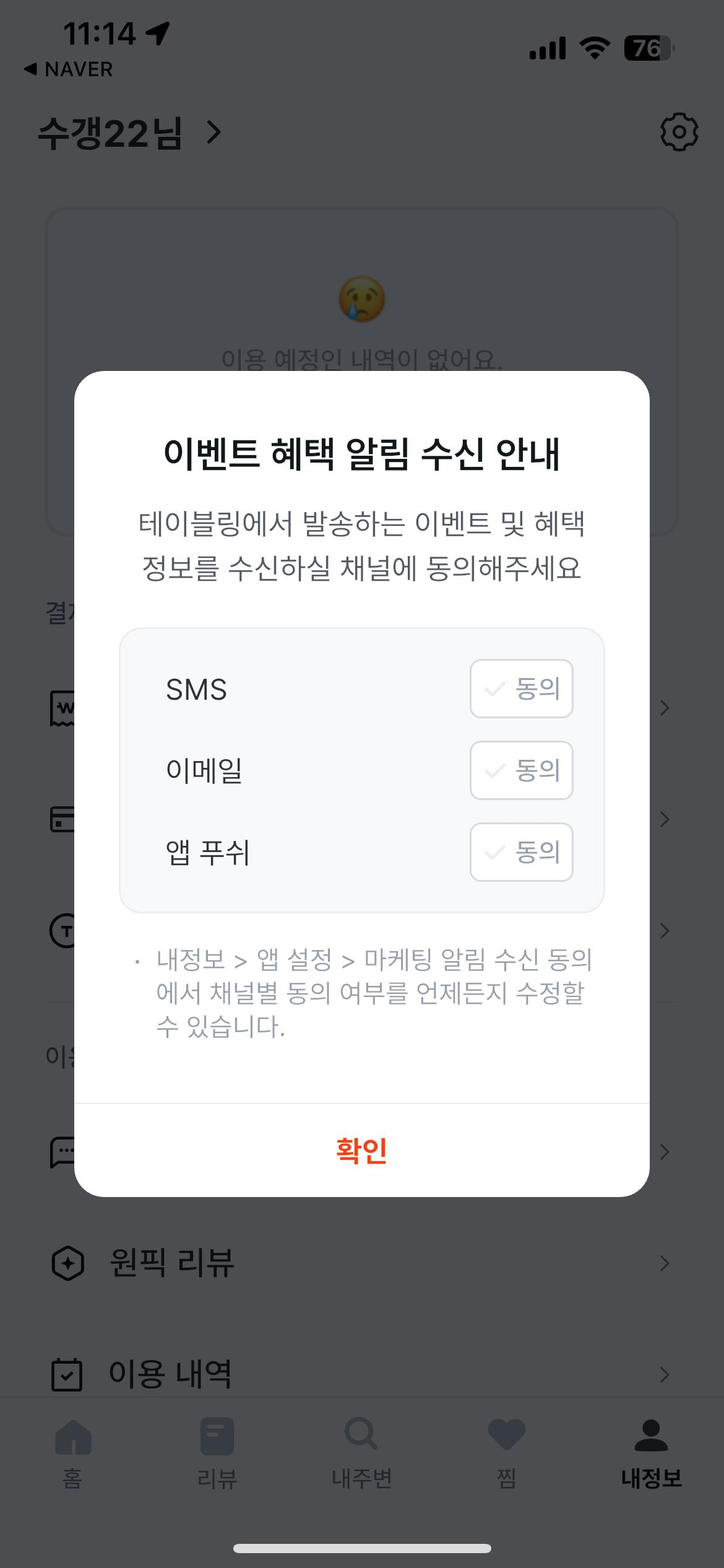button: (75, 1098, 650, 1196), (316, 1408, 424, 1508), (603, 1405, 704, 1505), (467, 1404, 559, 1503), (31, 1409, 128, 1502), (178, 1410, 263, 1508), (650, 105, 711, 166), (641, 1237, 681, 1294), (195, 104, 236, 158), (648, 1347, 690, 1393)
checkbox: (467, 644, 581, 727), (459, 820, 584, 891), (469, 735, 582, 805)
